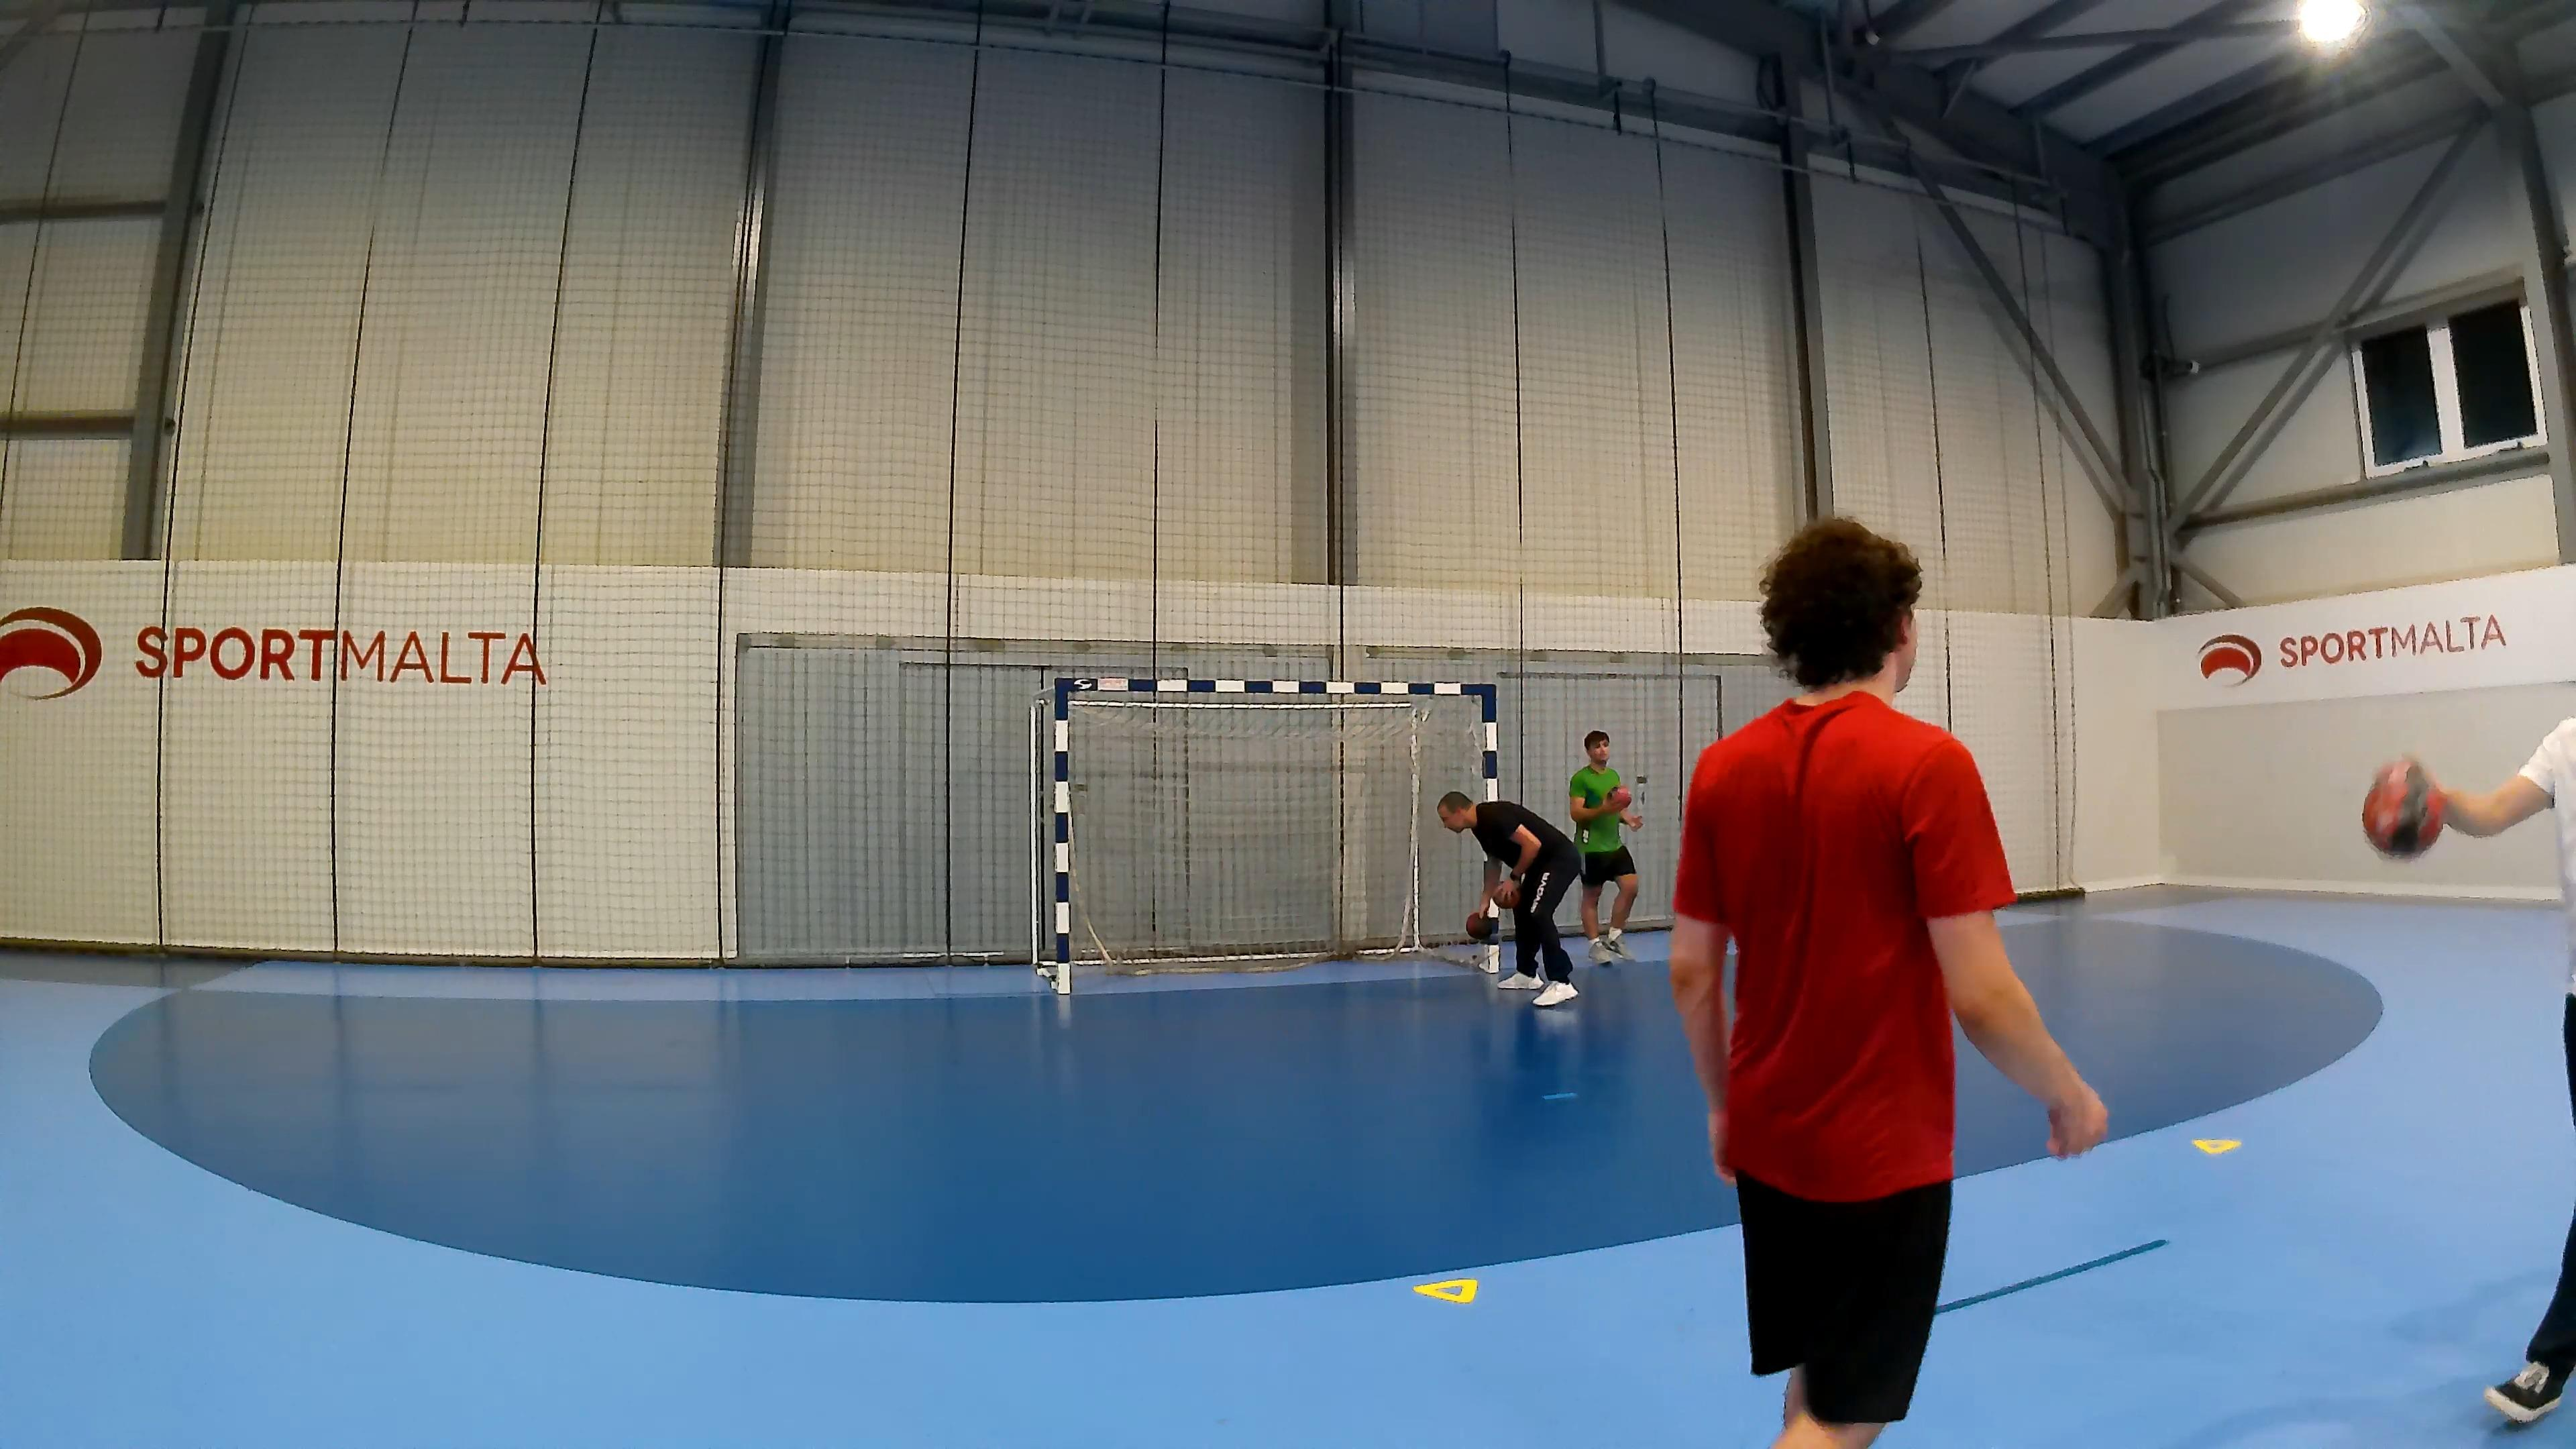handball: (2360, 757, 2445, 858), (1465, 908, 1497, 941)
